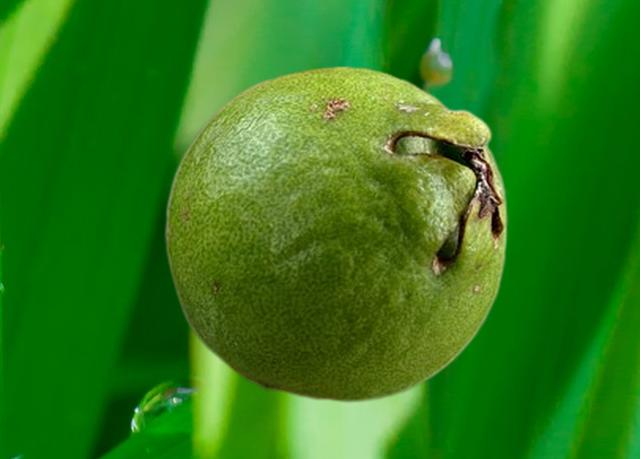guava: (164, 65, 507, 402)
